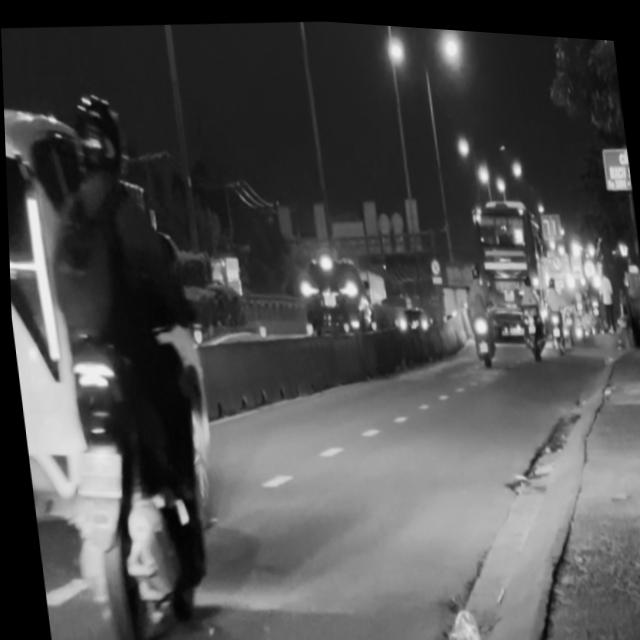helmet: (59, 81, 128, 183)
licenseplate: (4, 60, 238, 640)
nohelmet: (68, 441, 119, 496)
